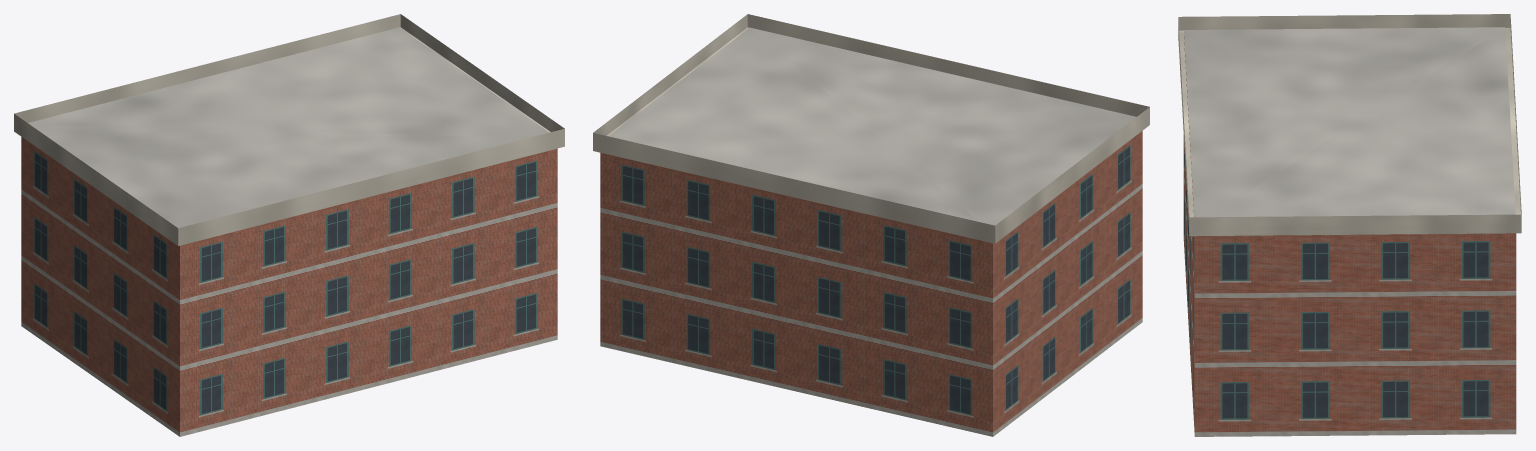
File: SM_MoloItalia_EdificioEst_LOD2.fbx
The picture shows the model from 3 angles, left to right: view 1: azimuth 30°, elevation 25°; view 2: azimuth 150°, elevation 25°; view 3: azimuth 270°, elevation 25°; orthographic projection. The views are drawn at different scales.
Parts seen in each view (by area): view 1: SM_MoloItalia_EdificioEst_LOD2; view 2: SM_MoloItalia_EdificioEst_LOD2; view 3: SM_MoloItalia_EdificioEst_LOD2.
Boxes of the visible parts, x1,y1,x2,y2 form: SM_MoloItalia_EdificioEst_LOD2: [14, 14, 564, 436]; SM_MoloItalia_EdificioEst_LOD2: [593, 14, 1149, 436]; SM_MoloItalia_EdificioEst_LOD2: [1178, 14, 1521, 436].
Size of the model in its own units: 2201 by 1571 by 1120.
2 materials, 2 textured.
